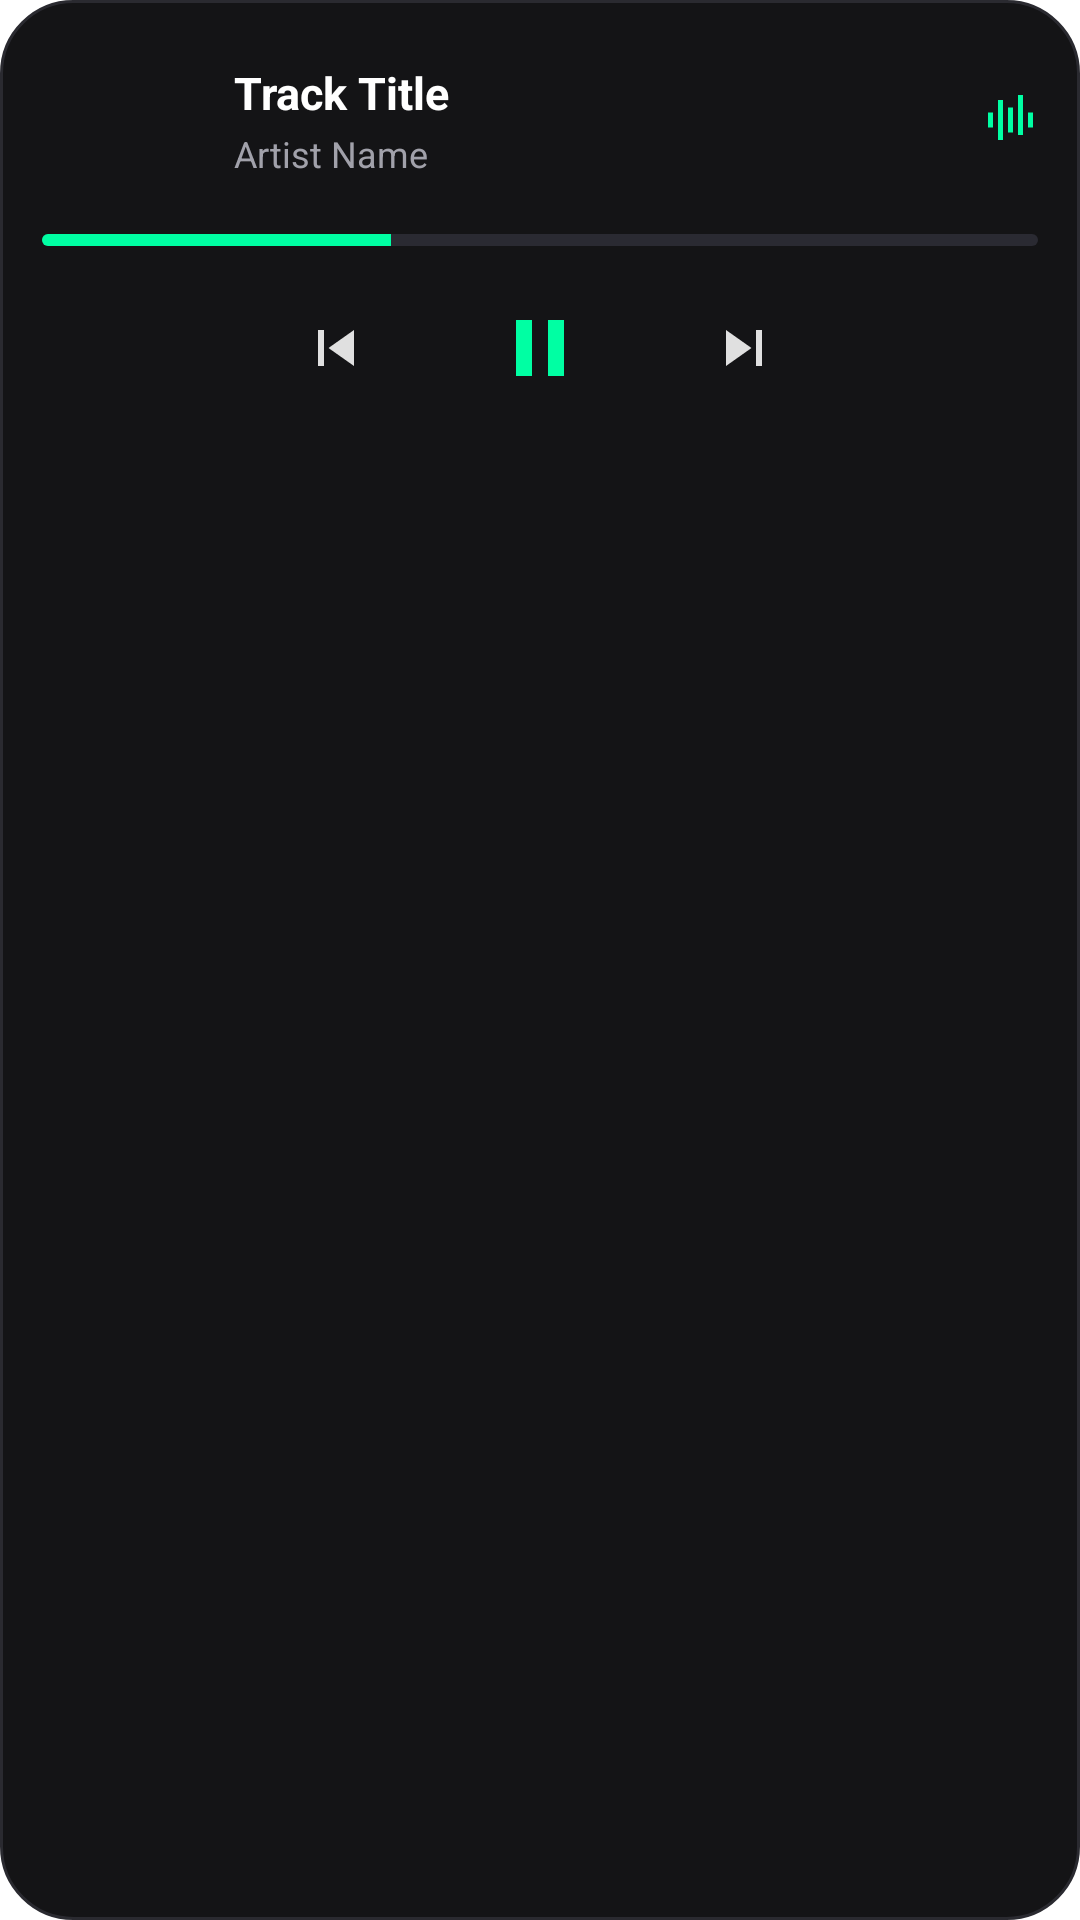

Point at icon controls on the screen. Image size 1080 × 1920, points as (x=x, y=y).
music wave: (x=1010, y=117)
pause: (x=540, y=348)
skip next: (x=744, y=348)
skip previous: (x=336, y=348)
